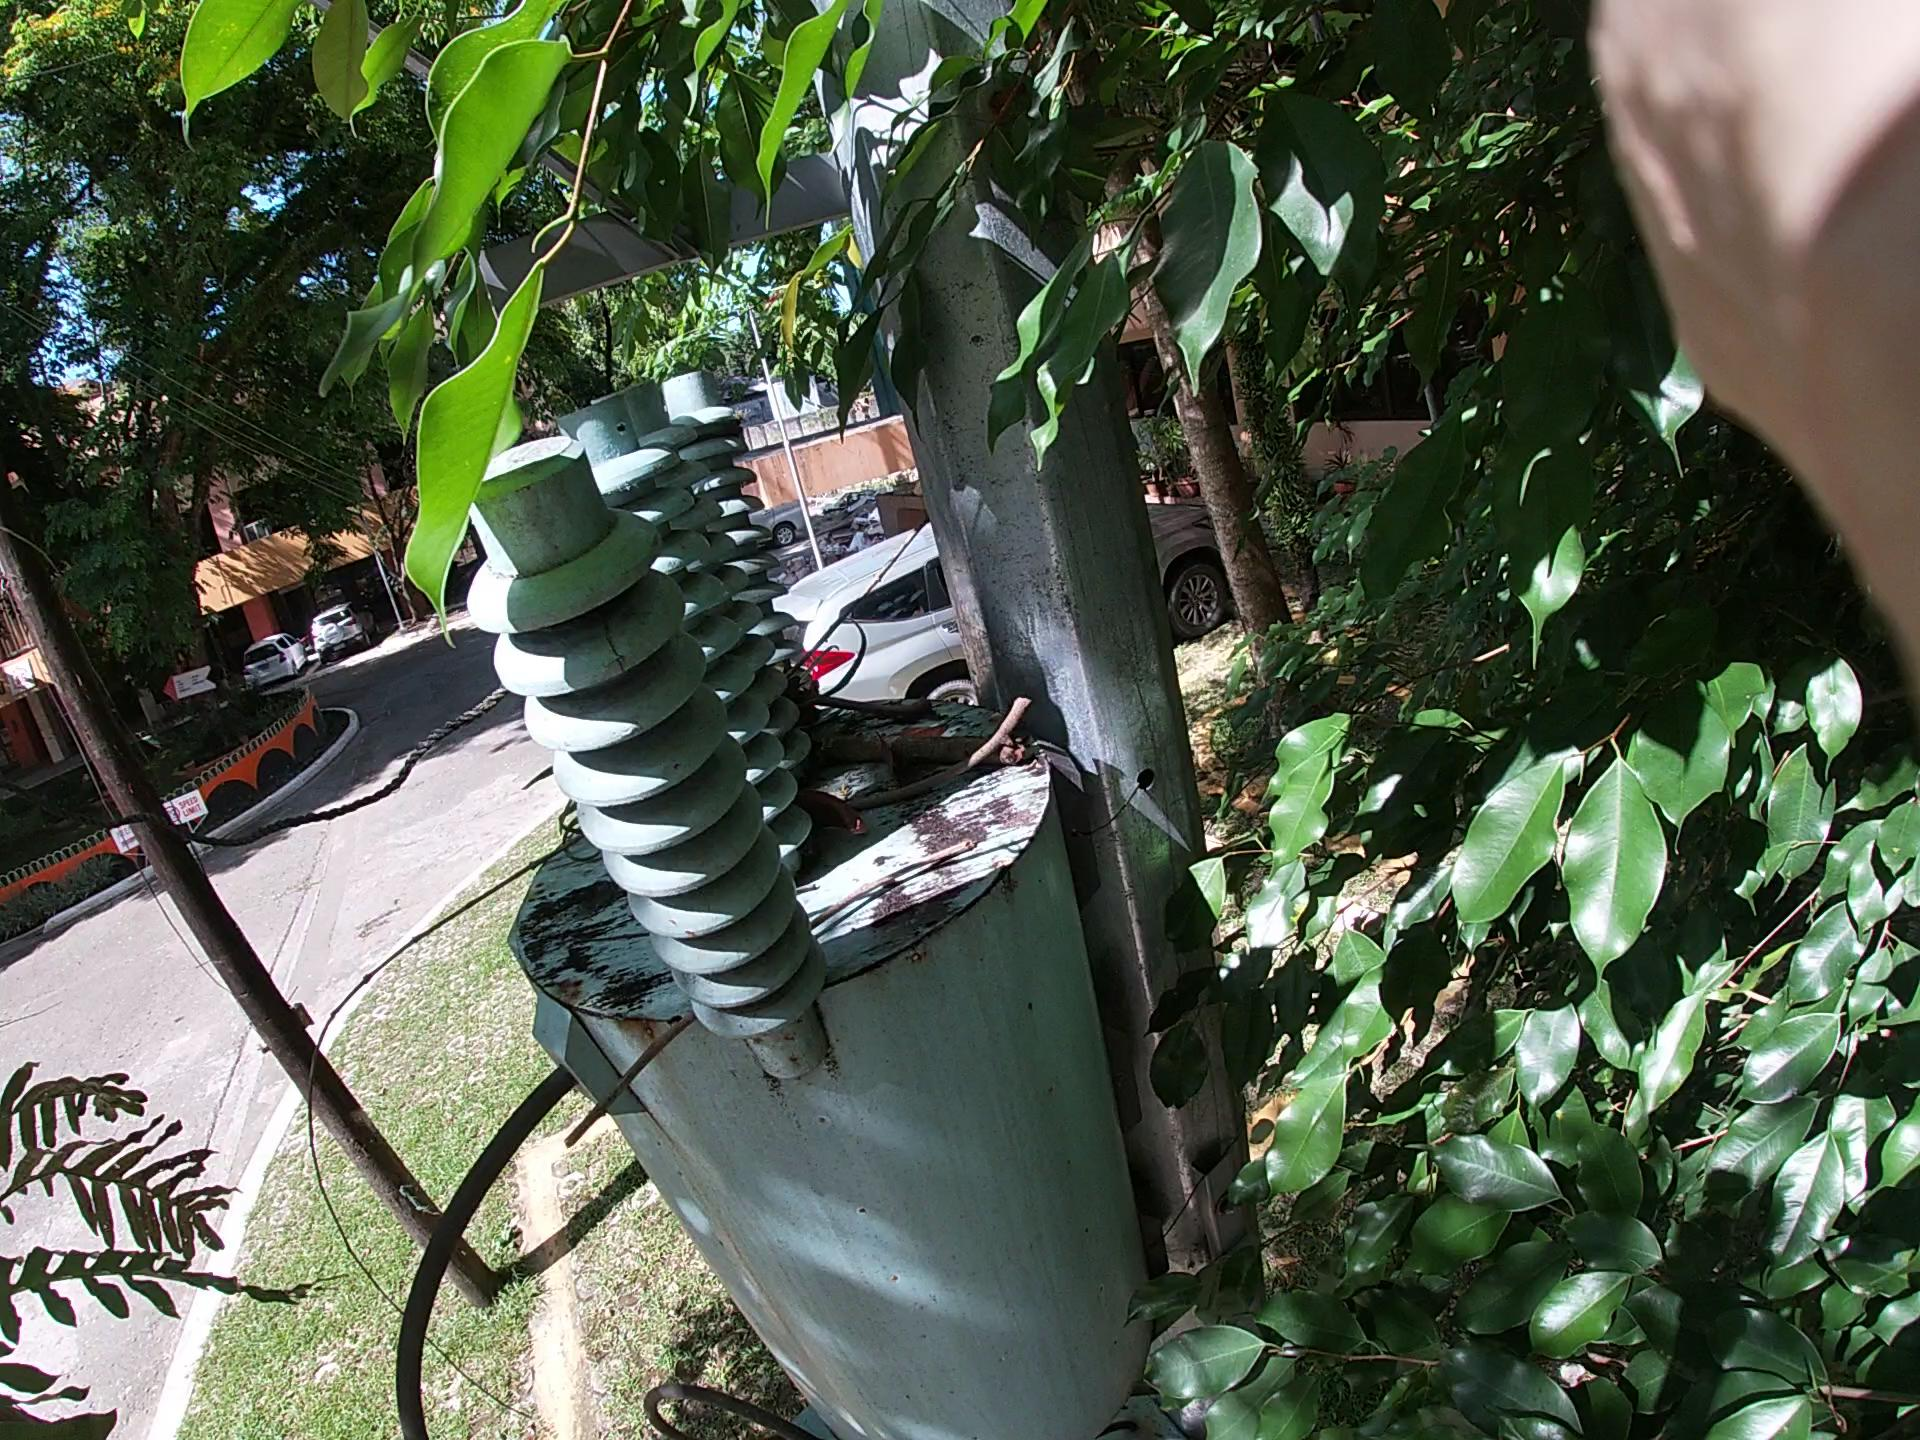branch with leaves: (750, 632, 939, 782)
mahogany fruit: (750, 773, 893, 855)
tree branch: (286, 664, 649, 1199), (602, 821, 928, 1157), (874, 702, 1079, 812)
